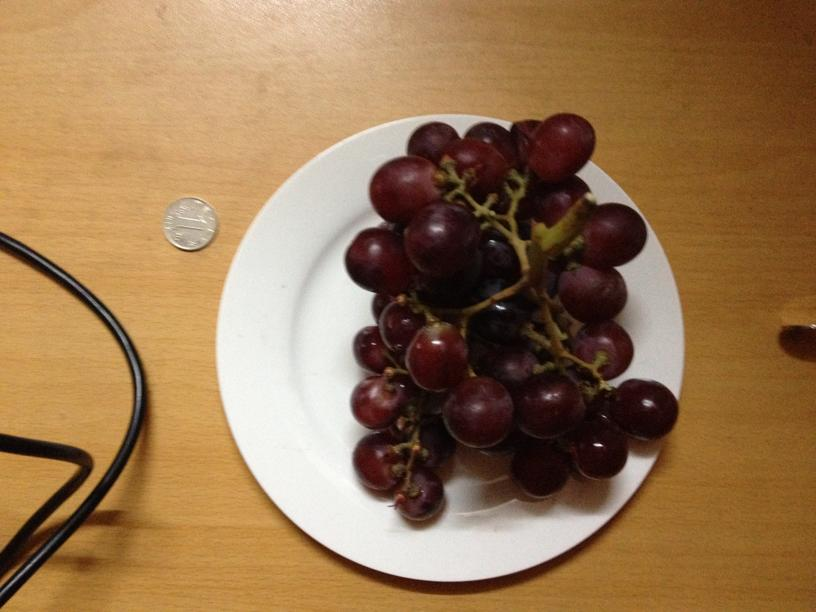coin: (160, 198, 217, 251)
grape: (347, 112, 681, 518)
